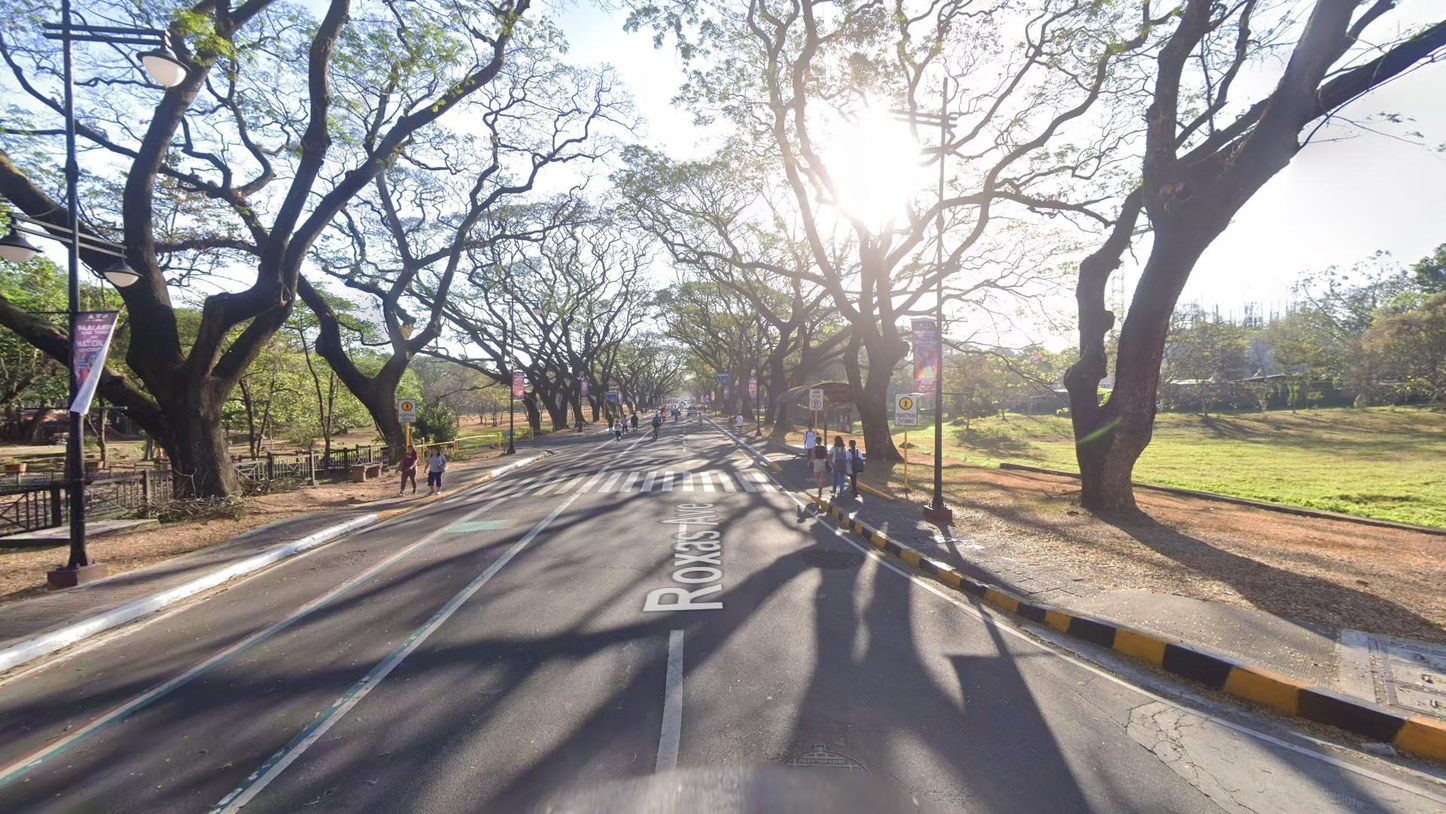cyclist: (652, 413, 661, 440), (660, 409, 667, 426), (673, 408, 679, 423)
pedestrian: (807, 436, 829, 497), (394, 445, 418, 496), (423, 446, 447, 496), (829, 435, 847, 498), (847, 439, 864, 497), (804, 424, 816, 468), (735, 412, 744, 436), (614, 419, 622, 446), (630, 412, 639, 433), (607, 414, 614, 435), (622, 414, 629, 433), (697, 412, 703, 432)
